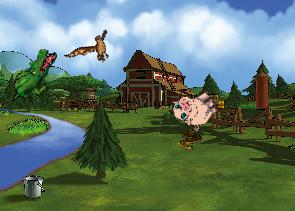crocodile: (9, 43, 58, 109)
eagle: (64, 19, 121, 78)
pig: (168, 81, 223, 135)
